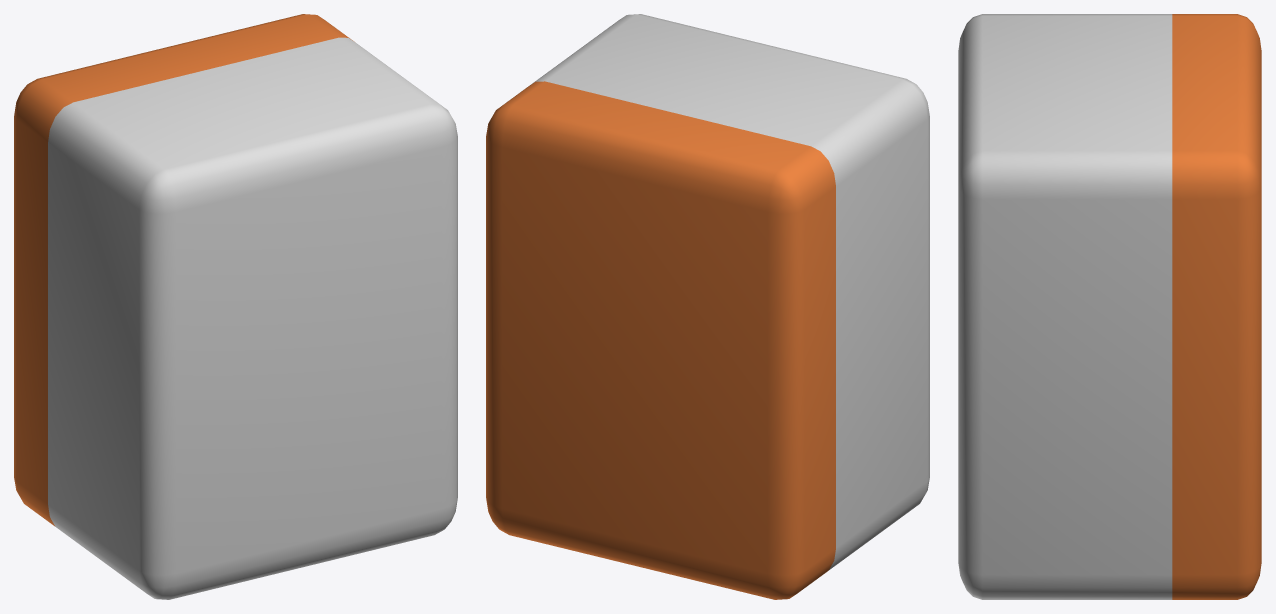
File: 麻雀牌1.fbx
3 renders of one model, left to right at view 1: azimuth 30°, elevation 25°; view 2: azimuth 150°, elevation 25°; view 3: azimuth 270°, elevation 25°, orthographic. The views are drawn at different scales.
Visible parts, largest first — view 1: Cube; view 2: Cube; view 3: Cube.
Boxes of the visible parts, left/top/right/bottom form: Cube: left=14, top=14, right=457, bottom=599; Cube: left=486, top=14, right=929, bottom=599; Cube: left=958, top=14, right=1261, bottom=599.
Bounding box in the file's own units: 0.02 × 0.026 × 0.016.
